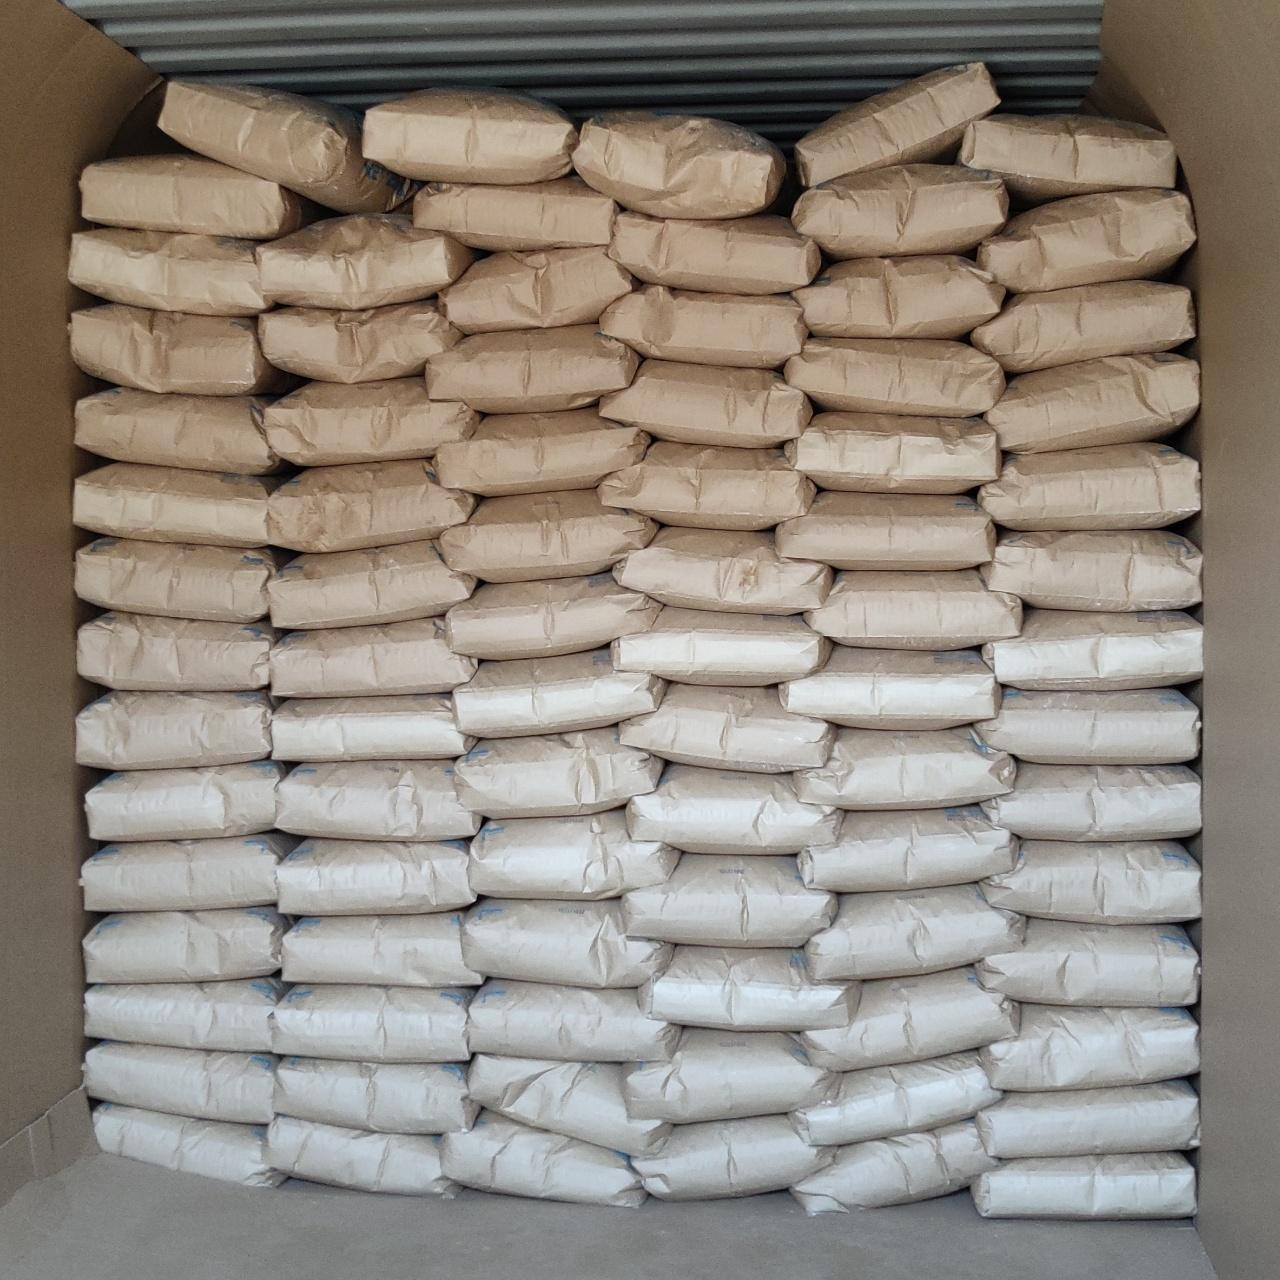sack: (159, 80, 407, 211), (795, 64, 999, 188), (573, 111, 785, 219), (801, 967, 1019, 1071), (978, 189, 1194, 292), (983, 353, 1199, 452), (805, 885, 1026, 981), (791, 163, 1009, 259), (969, 281, 1194, 373), (258, 213, 474, 308), (622, 1028, 840, 1122), (437, 490, 658, 583), (363, 89, 577, 184), (621, 855, 837, 947), (440, 1111, 646, 1207), (790, 1050, 1001, 1144), (267, 459, 478, 552), (597, 441, 816, 530), (69, 304, 282, 395), (469, 1055, 668, 1152), (613, 526, 833, 614), (978, 918, 1198, 1006), (626, 765, 843, 855), (791, 1121, 996, 1214), (979, 443, 1200, 530), (263, 377, 481, 465), (425, 324, 640, 413), (455, 727, 663, 818), (431, 408, 651, 495), (956, 115, 1176, 202), (799, 806, 1017, 893), (599, 359, 812, 447), (82, 156, 307, 239), (452, 649, 665, 737), (622, 685, 835, 772), (779, 645, 1000, 729), (981, 1005, 1198, 1090), (468, 810, 679, 898), (639, 946, 858, 1030), (447, 573, 662, 659), (461, 899, 670, 987), (794, 727, 1015, 810), (980, 840, 1200, 924), (268, 540, 476, 628), (68, 227, 274, 315), (75, 387, 284, 474), (980, 531, 1201, 611), (610, 211, 821, 294), (258, 298, 463, 383), (804, 570, 1020, 651), (73, 463, 279, 547), (976, 1080, 1198, 1158), (75, 536, 275, 622), (983, 610, 1201, 689), (794, 256, 1005, 338), (784, 338, 1005, 416), (980, 762, 1200, 840), (787, 411, 1000, 492), (612, 606, 831, 685), (631, 1115, 835, 1199), (440, 247, 636, 334), (468, 979, 679, 1060), (600, 284, 808, 366), (776, 491, 995, 568), (975, 689, 1200, 764), (81, 833, 299, 910), (275, 760, 481, 840), (272, 617, 477, 697), (86, 760, 286, 840), (84, 906, 293, 983), (91, 1103, 282, 1187), (270, 985, 474, 1063), (82, 1041, 277, 1123), (275, 1057, 479, 1133), (282, 911, 486, 987), (268, 1116, 459, 1197), (413, 175, 618, 250), (79, 612, 274, 690), (76, 692, 272, 769), (971, 1152, 1196, 1219), (84, 978, 285, 1051), (275, 839, 476, 913), (272, 694, 474, 760)
